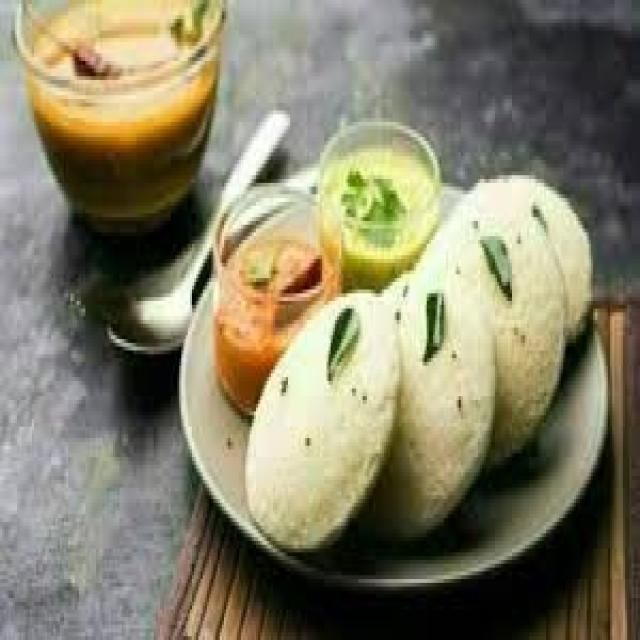IDLI: (428, 170, 598, 466), (360, 262, 497, 550), (250, 285, 402, 544)
